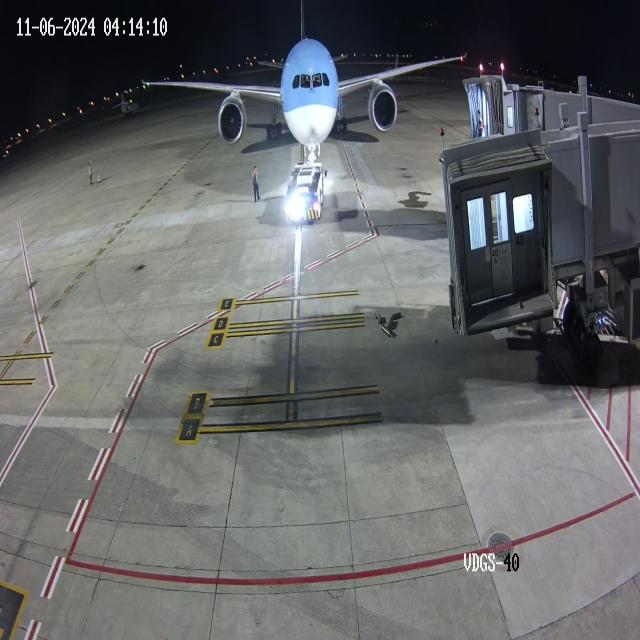bridge: (487, 73, 546, 145)
plane: (122, 3, 442, 164)
window: (285, 63, 334, 96)
